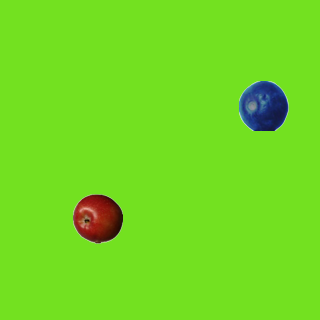Apple Braeburn: (72, 193, 122, 243)
Huckleberry: (238, 80, 288, 130)
